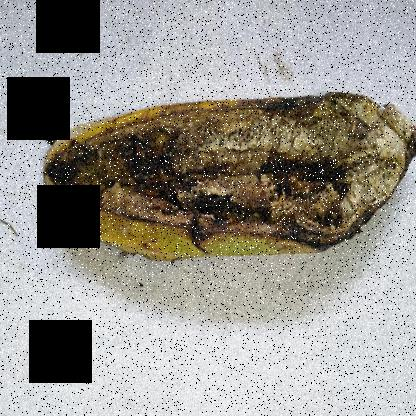rotten: (40, 55, 415, 266)
